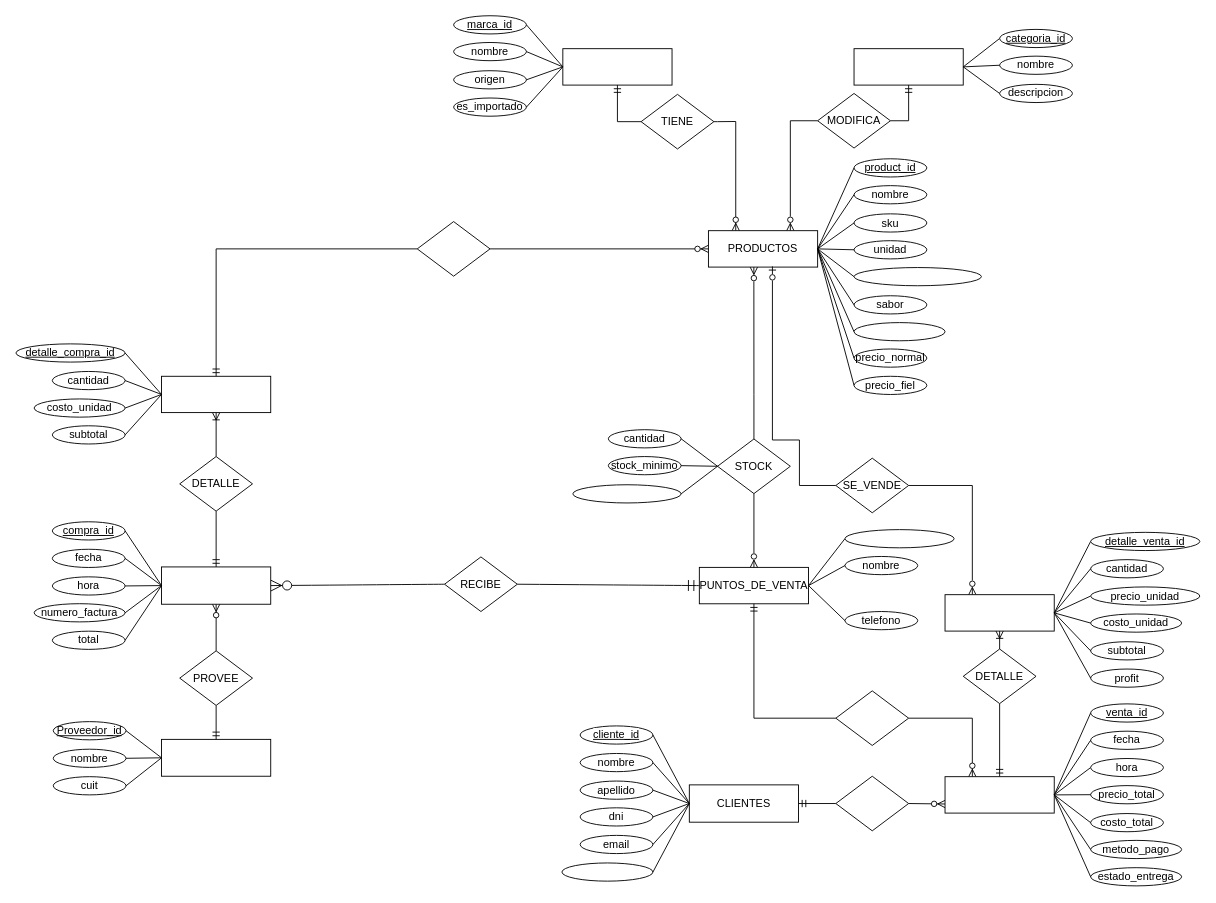
Some shapes in this 1216 by 903 pixel diagram are drawn without their labels. The box of each missing label's shape, as (x1, y1, x2, y2) in pixels:
CATEGORIAS: (853, 48, 963, 85)
COMPRAS: (161, 566, 271, 604)
costo_promedio: (853, 322, 945, 341)
descripcion_medida: (853, 267, 981, 286)
DETALLE_COMPRAS: (161, 375, 271, 413)
DETALLE_VENTAS: (944, 594, 1054, 631)
es_cliente_fiel: (561, 862, 653, 881)
fecha_actualizacion: (572, 484, 681, 503)
MARCAS: (562, 48, 672, 85)
PROVEEDORES: (161, 738, 271, 776)
puntos_de_venta_id: (844, 529, 954, 548)
REALIZA: (835, 775, 909, 831)
REGISTRA: (835, 690, 909, 745)
SE_COMPRA: (416, 221, 490, 276)
VENTAS: (944, 776, 1054, 813)
